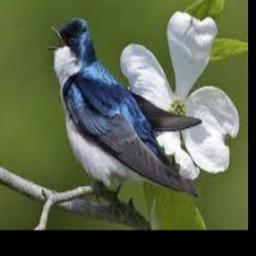Swallow: (46, 17, 202, 202)
